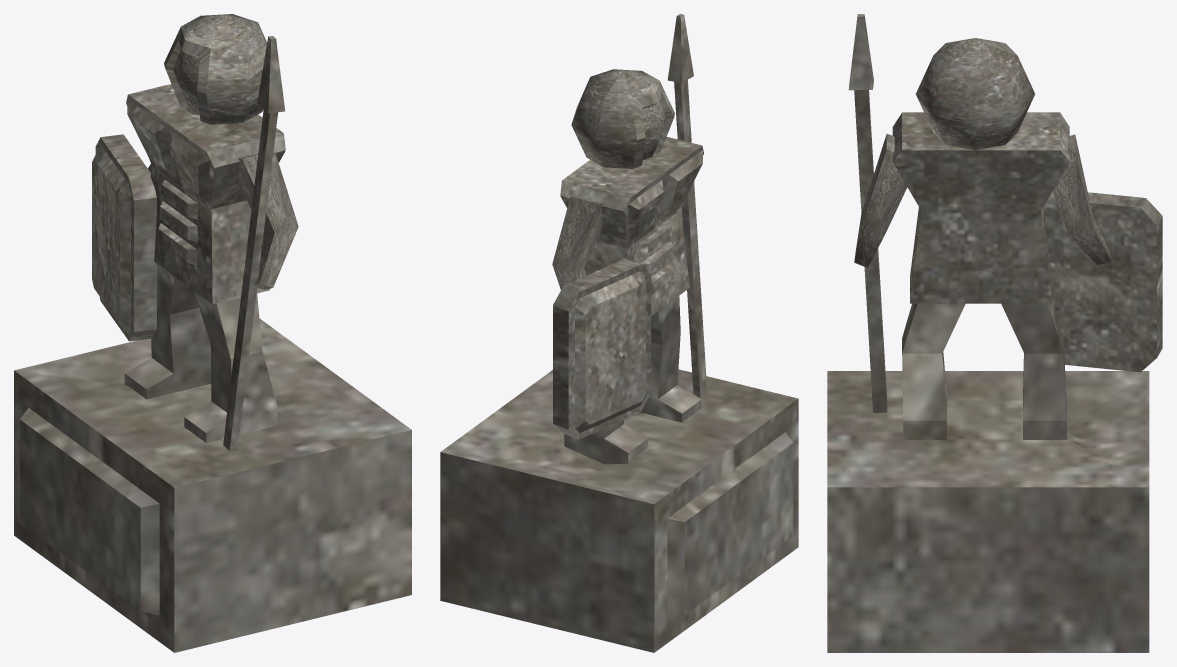
File: warrior.FBX
3 renders of one model, left to right at view 1: azimuth 30°, elevation 25°; view 2: azimuth 150°, elevation 25°; view 3: azimuth 270°, elevation 25°, orthographic. The views are drawn at different scales.
Parts seen in each view (by area): view 1: Box001, Box002, Box004, Sphere001, Box005, Box003; view 2: Box001, Box004, Box002, Sphere001, Box005, Box003; view 3: Box001, Box002, Box004, Sphere001, Box003, Box005.
Part boxes in pixels (<box>): Box001: <box>14,264,411,652</box>; Box002: <box>126,84,285,304</box>; Box004: <box>92,134,156,341</box>; Sphere001: <box>164,14,266,124</box>; Box005: <box>223,36,285,450</box>; Box003: <box>148,150,298,289</box>; Box001: <box>440,296,798,652</box>; Box004: <box>553,258,651,439</box>; Box002: <box>560,137,703,315</box>; Sphere001: <box>571,69,674,168</box>; Box005: <box>667,14,707,398</box>; Box003: <box>552,196,683,289</box>; Box001: <box>827,299,1149,652</box>; Box002: <box>892,112,1069,303</box>; Box004: <box>1043,191,1162,372</box>; Sphere001: <box>916,38,1034,150</box>; Box003: <box>854,134,1111,267</box>; Box005: <box>848,14,887,412</box>.
Size of the model in its own units: 396 by 865 by 455.
1 material, 1 textured.
